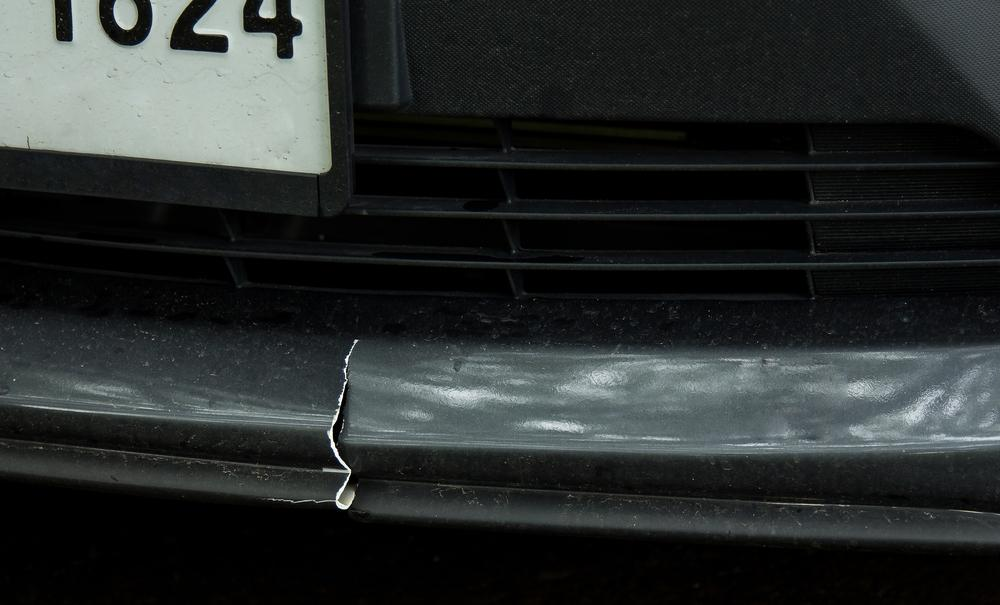crack: (262, 331, 360, 509)
